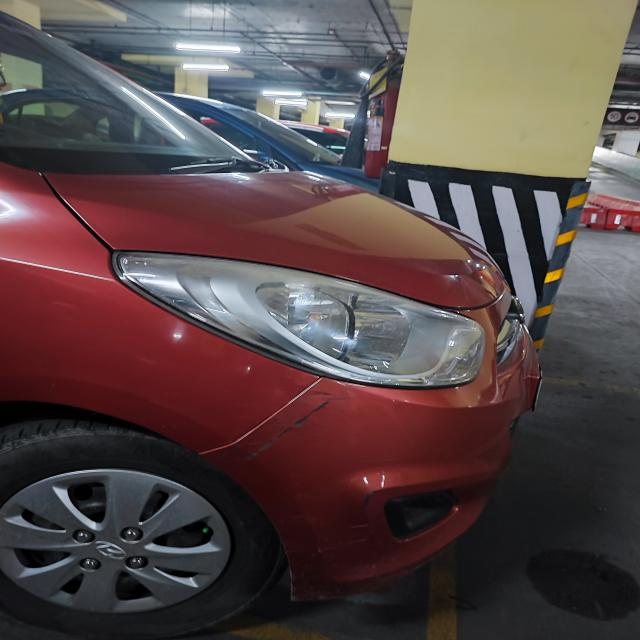scratch: (247, 395, 347, 464)
